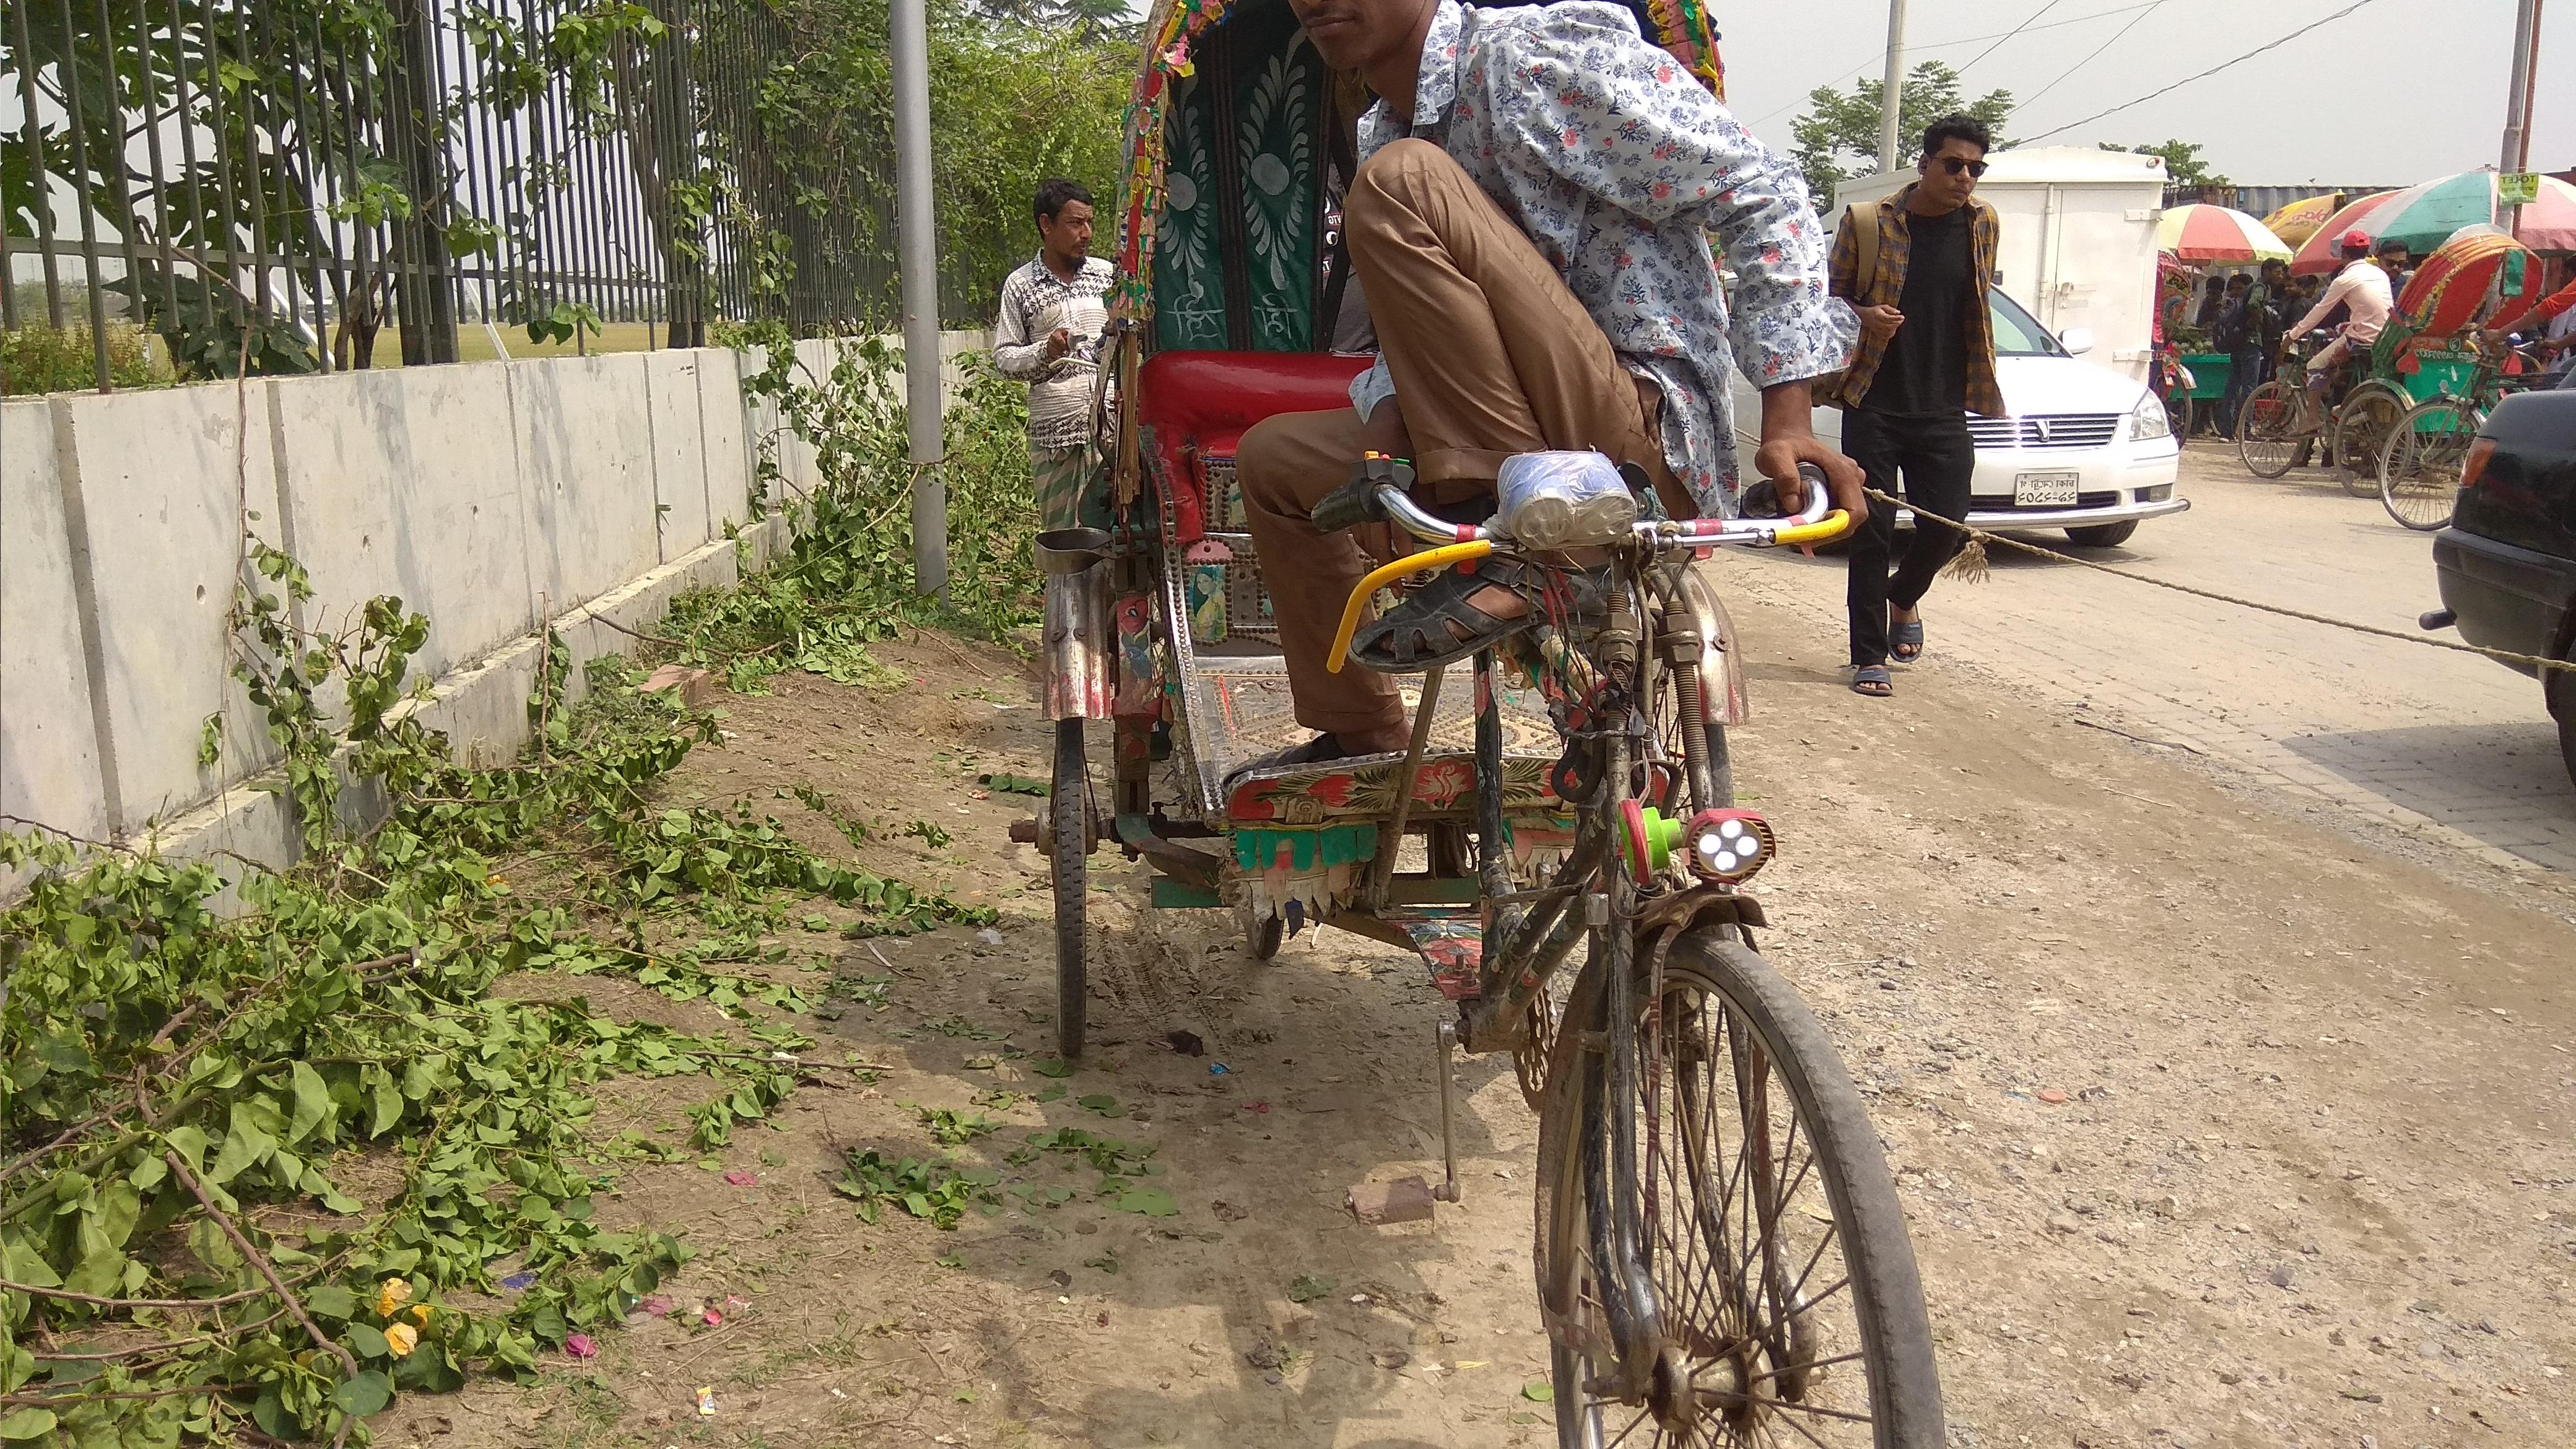Rickshaw: (1033, 2, 1927, 1438), (2238, 225, 2525, 524)
